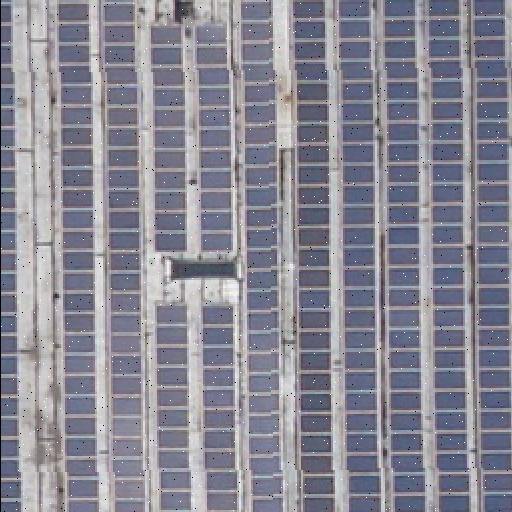solar-panel: (102, 0, 146, 512), (290, 0, 334, 512), (336, 0, 380, 512), (426, 0, 470, 512), (55, 0, 97, 512), (383, 0, 425, 512), (242, 0, 282, 512), (472, 0, 512, 512), (1, 0, 23, 512), (148, 25, 188, 255), (194, 25, 234, 255), (201, 300, 239, 512), (153, 304, 191, 512)
